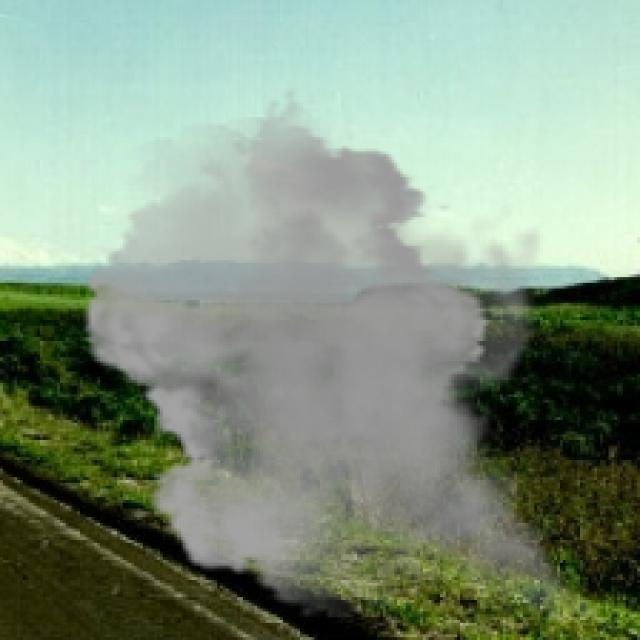smoke: (69, 86, 632, 637)
